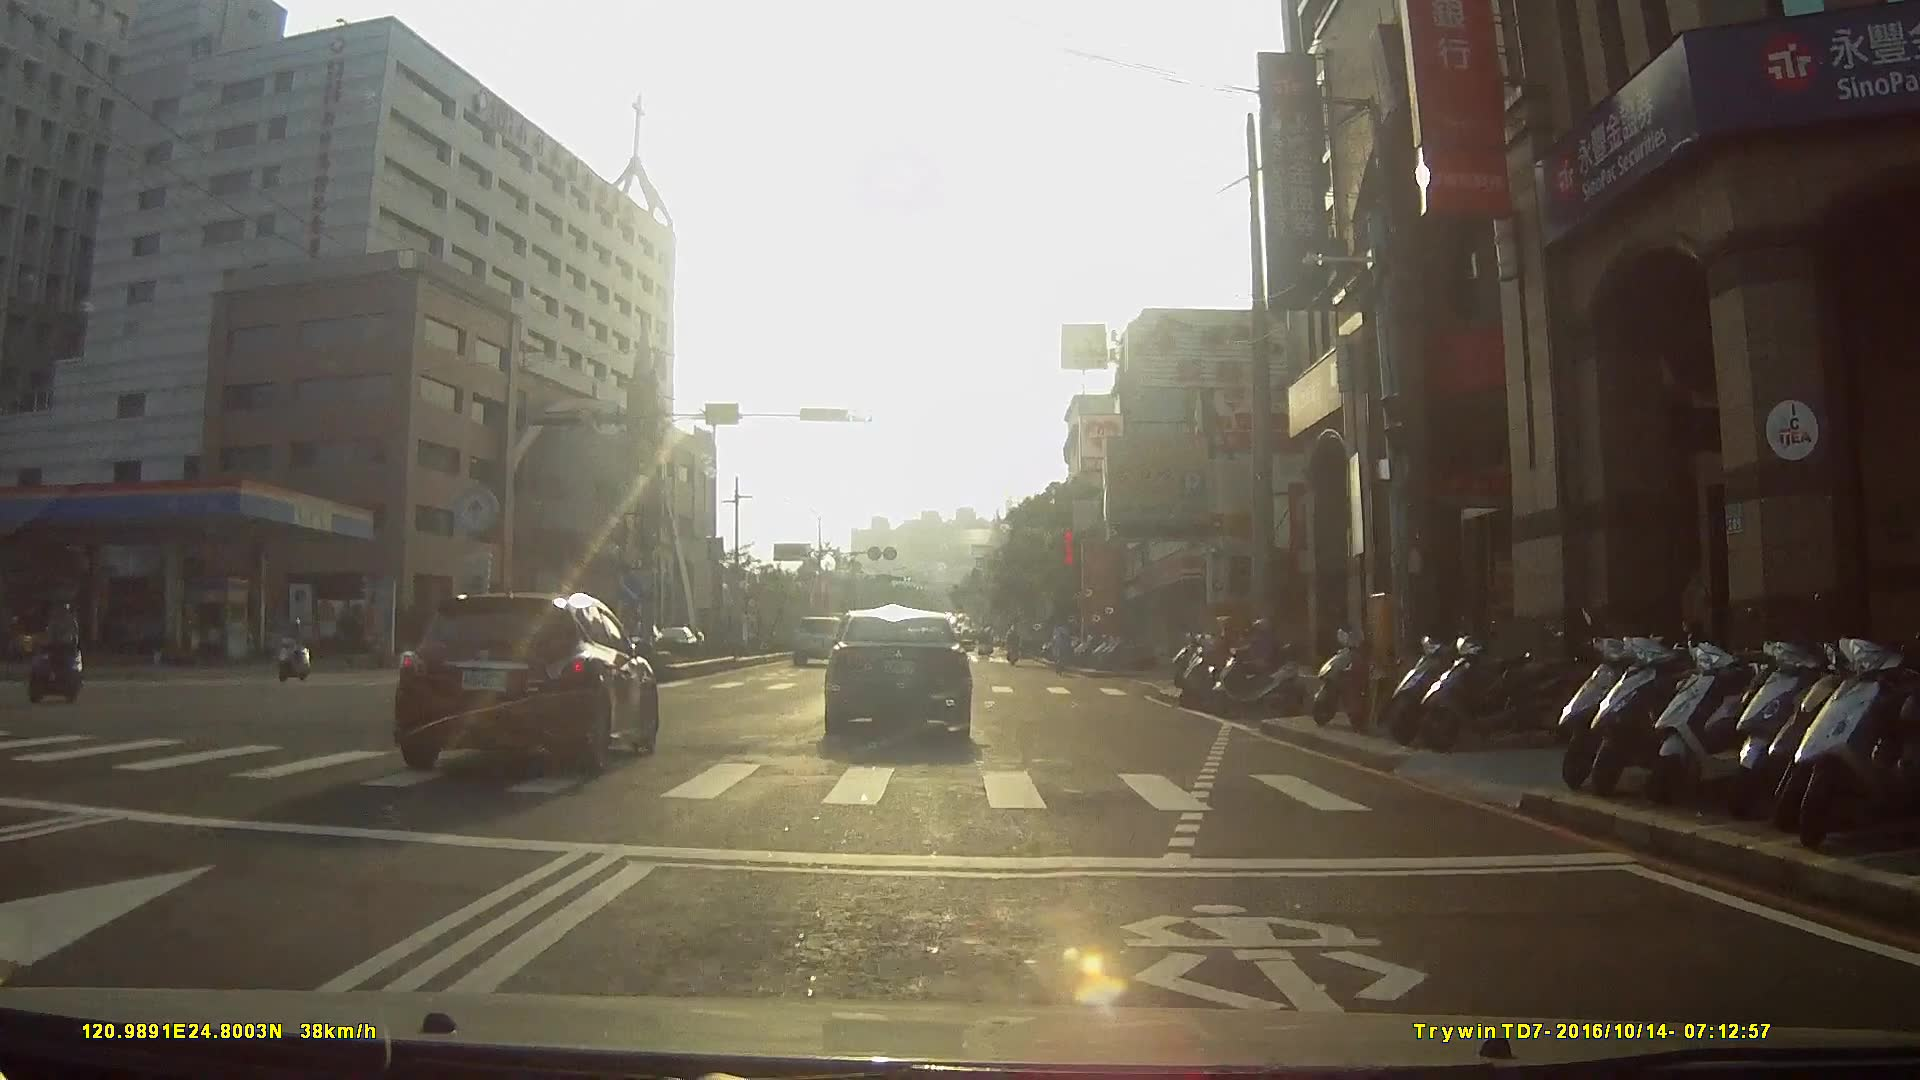rider: (1200, 616, 1310, 719), (29, 602, 87, 706), (277, 615, 311, 682)
vehicle: (389, 584, 670, 781), (821, 603, 990, 743), (793, 610, 852, 665)
